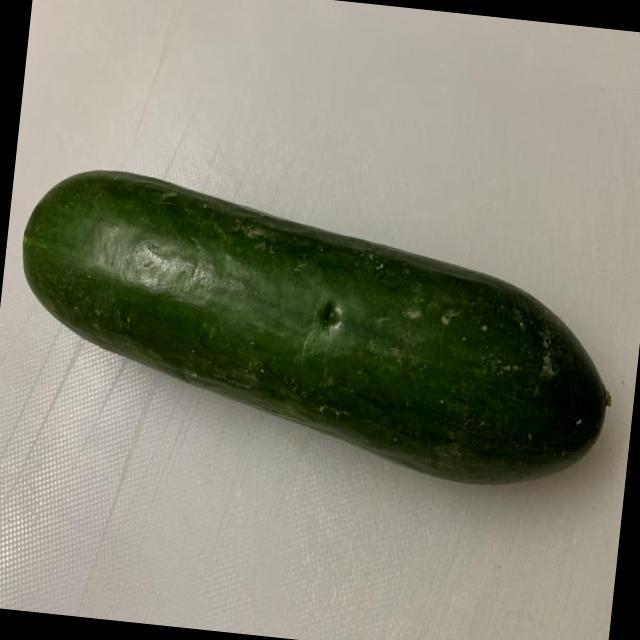Cucumber: (2, 150, 633, 506)
